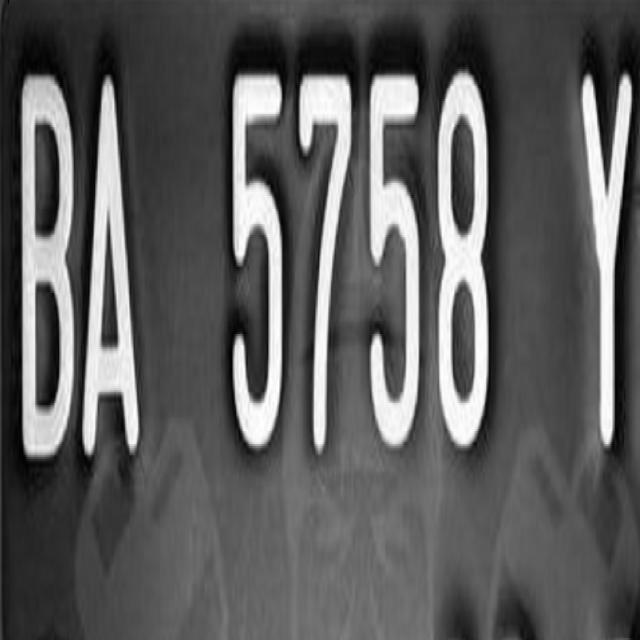5: (218, 60, 286, 464), (361, 70, 428, 462)
7: (293, 70, 359, 470)
8: (433, 63, 495, 472)
A: (76, 65, 160, 458)
B: (11, 68, 83, 466)
Y: (570, 50, 640, 446)
